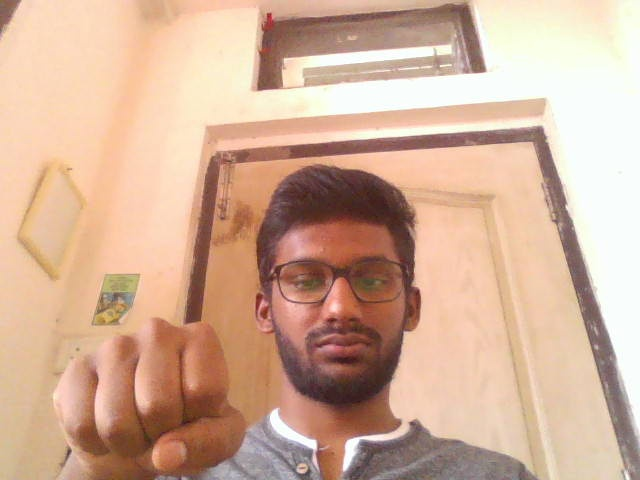No: (48, 316, 248, 480)
